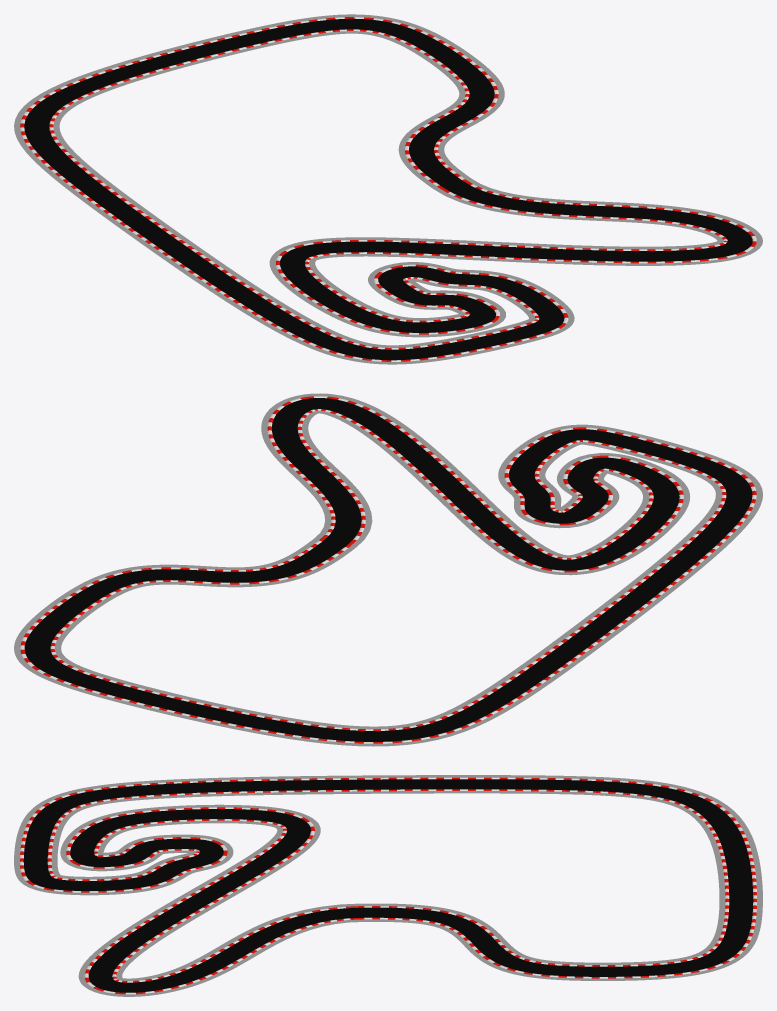
The model's file is mapa-easy.fbx.
3 views of the same model, one above another, from view 1: azimuth 30°, elevation 25°; view 2: azimuth 150°, elevation 25°; view 3: azimuth 270°, elevation 25° (orthographic). The views are drawn at different scales.
Visible parts, largest first — view 1: Plane; view 2: Plane; view 3: Plane.
Boxes of the visible parts, x1,y1,x2,y2 form: Plane: [14, 14, 762, 364]; Plane: [14, 393, 762, 746]; Plane: [14, 775, 762, 996].
Size of the model in its own units: 26542 by 18.4 by 37860.
